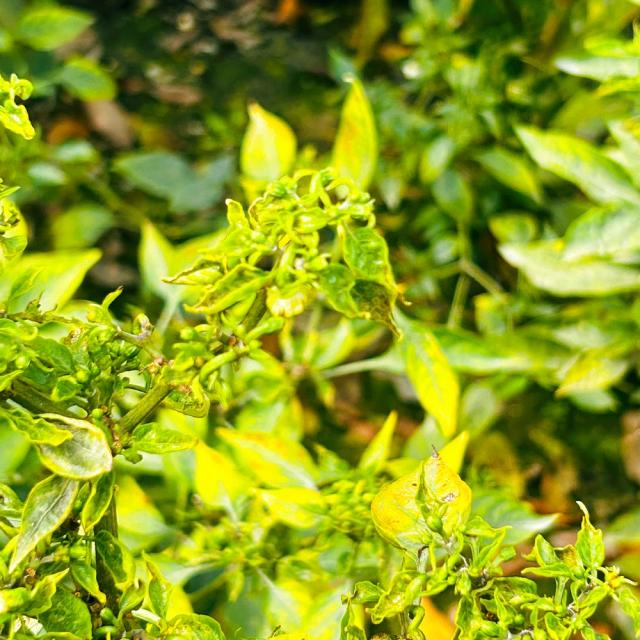Chilli_Leaf_Curl: (1, 5, 638, 638), (340, 445, 638, 639), (160, 165, 404, 348), (369, 445, 473, 567), (30, 412, 114, 481), (238, 100, 298, 184)
